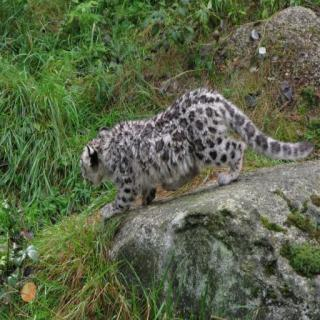Leopard: (75, 70, 298, 214)
